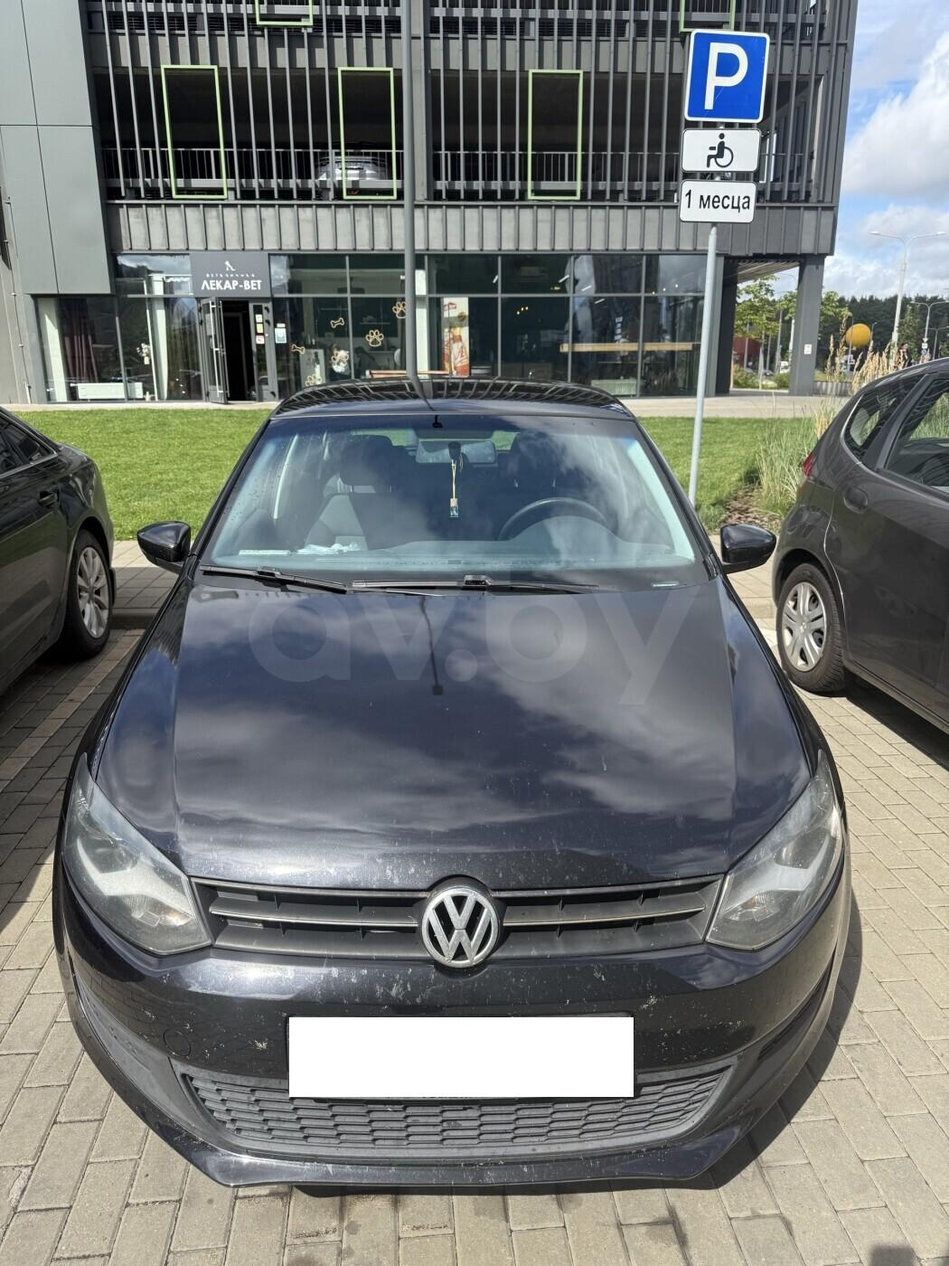Polo_2009-2015: (45, 367, 897, 1212)
